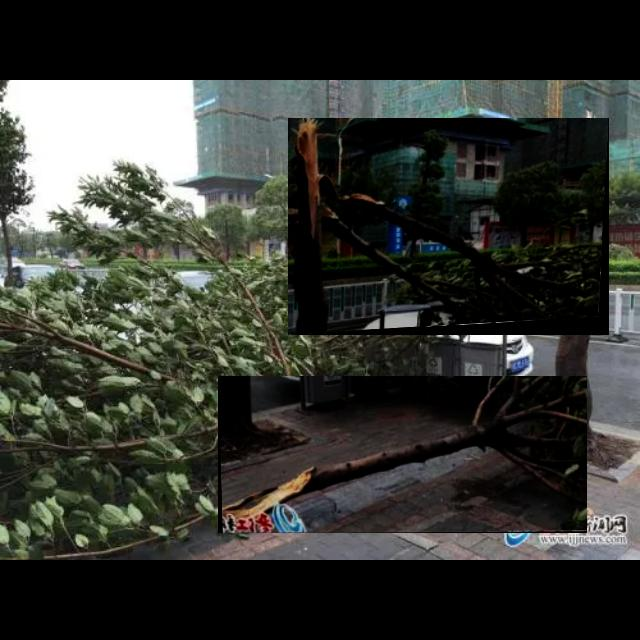Fallen Tree: (288, 118, 610, 336), (218, 376, 588, 534)
